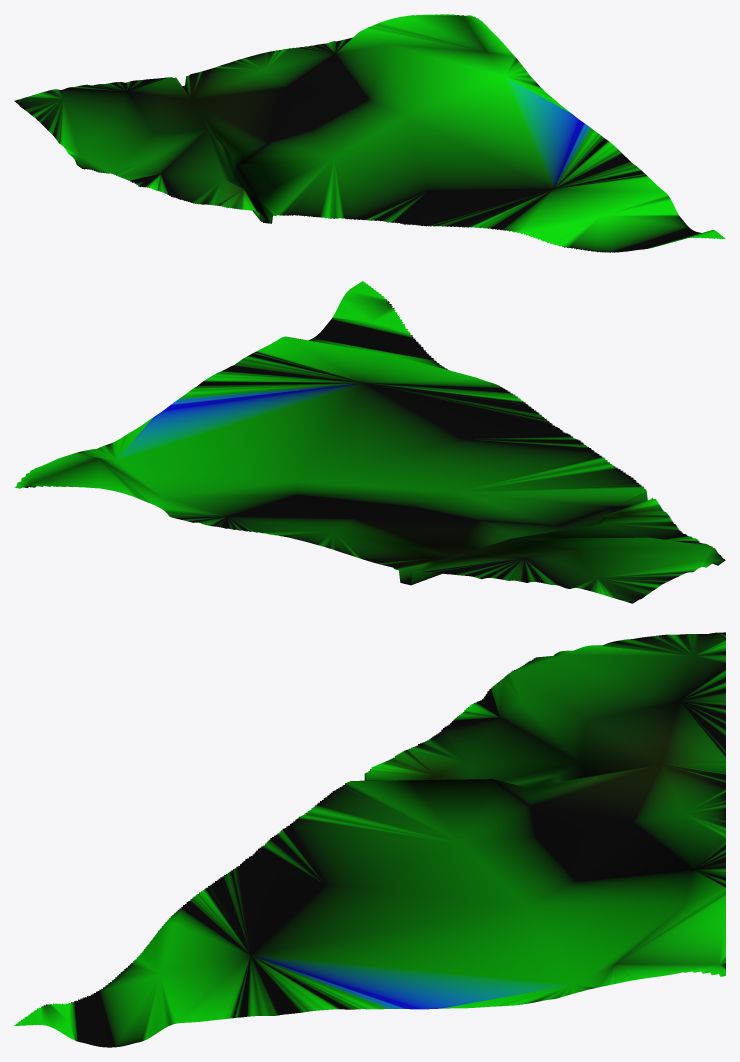
The model's file is N_1_3_anel.glb.
3 renders of one model, top to bottom at view 1: azimuth 30°, elevation 25°; view 2: azimuth 150°, elevation 25°; view 3: azimuth 270°, elevation 25°, orthographic. The views are drawn at different scales.
Visible parts, largest first — view 1: N_1_3; view 2: N_1_3; view 3: N_1_3.
Part boxes in pixels (x1,y1,x2,y2): N_1_3: (14, 14, 725, 252); N_1_3: (14, 281, 725, 603); N_1_3: (14, 632, 725, 1047).
Size of the model in its own units: 256 by 42.32 by 250.
